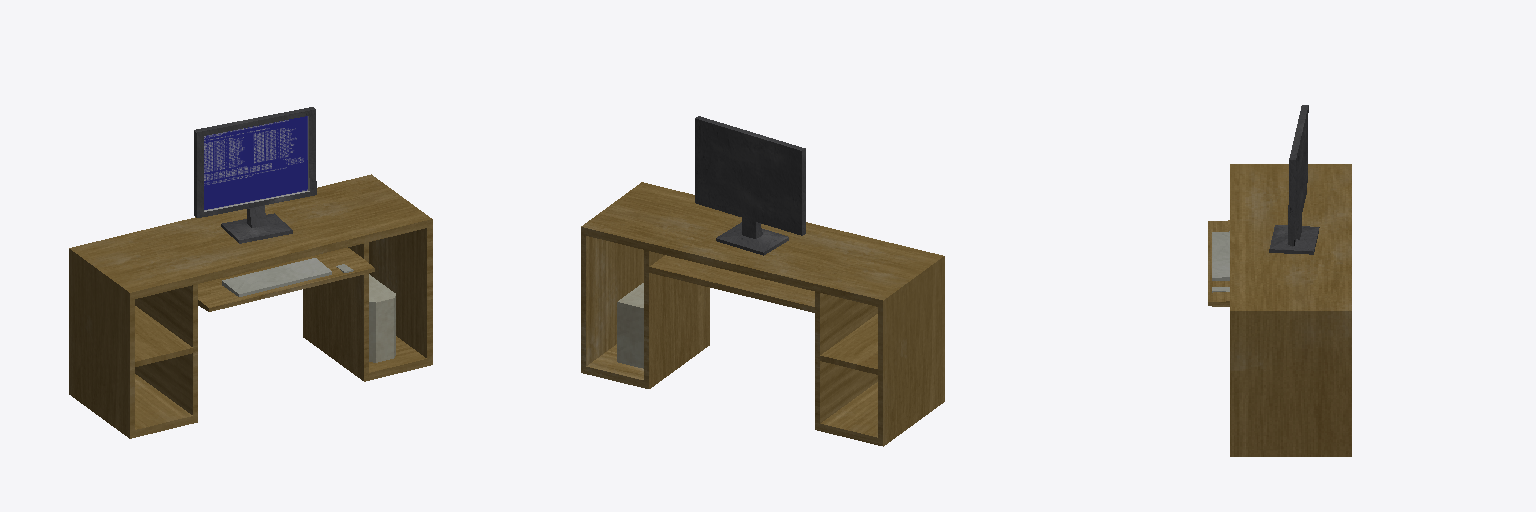
3 views of the same model, side by side, from view 1: azimuth 30°, elevation 25°; view 2: azimuth 150°, elevation 25°; view 3: azimuth 270°, elevation 25° (orthographic).
Visible parts, largest first — view 1: Escritorio1:polySurface9; view 2: Escritorio1:polySurface9; view 3: Escritorio1:polySurface9.
Boxes of the visible parts, box(x1,y1,x2,y2) form: Escritorio1:polySurface9: box(69, 107, 432, 438); Escritorio1:polySurface9: box(581, 116, 944, 446); Escritorio1:polySurface9: box(1208, 105, 1351, 456).
Size of the model in its own units: 10.32 by 8.32 by 4.23.
1 materials, 1 textured.